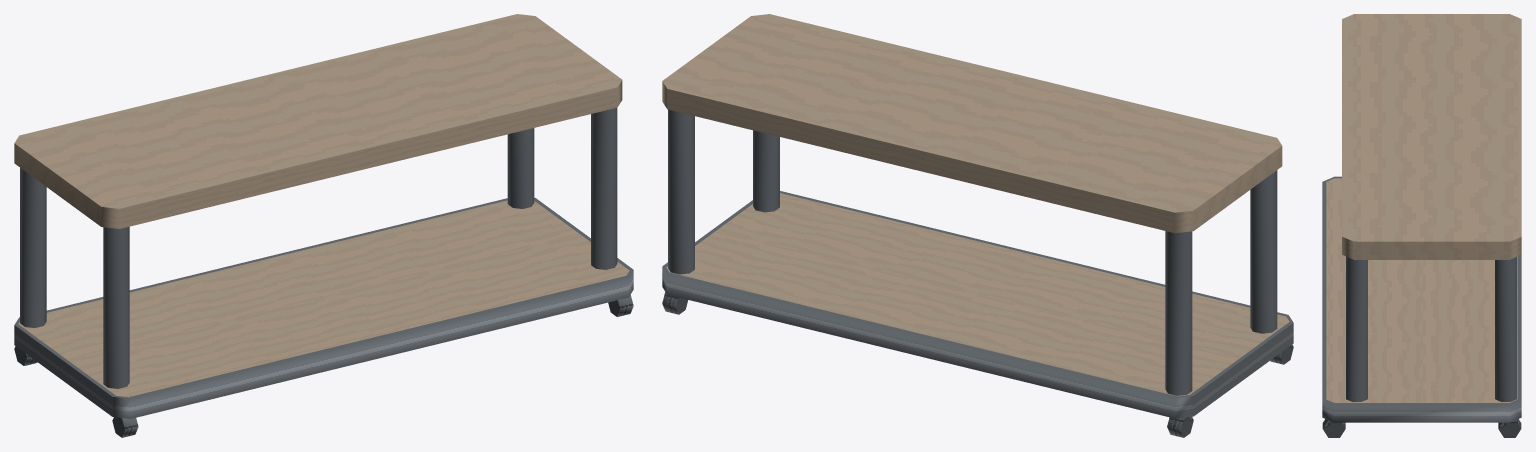
The model's file is 0541_Stereo_Shelf.glb.
3 renders of one model, left to right at view 1: azimuth 30°, elevation 25°; view 2: azimuth 150°, elevation 25°; view 3: azimuth 270°, elevation 25°, orthographic. The views are drawn at different scales.
Visible parts, largest first — view 1: part_0; view 2: part_0; view 3: part_0.
Boxes of the visible parts, x1,y1,x2,y2 form: part_0: (14,14,633,437); part_0: (662,14,1293,437); part_0: (1322,14,1521,437).
Size of the model in its own units: 1.35 by 0.55 by 0.5.
1 material, 1 textured.
